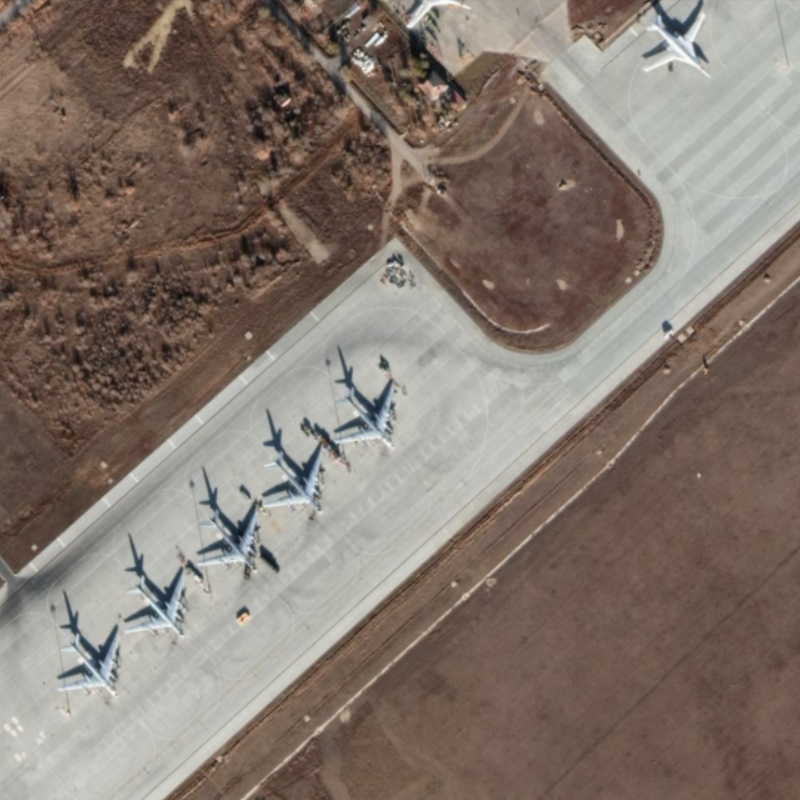A17: (193, 500, 265, 579), (330, 376, 399, 453), (121, 565, 190, 641), (56, 625, 124, 700), (258, 442, 328, 511)
A6: (640, 7, 718, 82)
